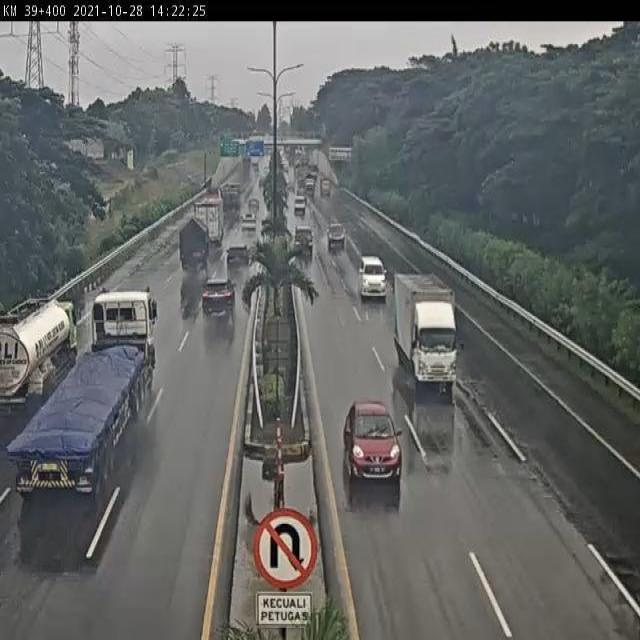ARABA: (339, 400, 405, 488), (197, 280, 237, 328), (355, 253, 390, 304), (325, 219, 351, 252), (224, 245, 252, 275), (238, 211, 261, 240), (297, 231, 318, 261), (289, 191, 311, 216), (247, 198, 260, 218)
KAMYONET: (396, 271, 464, 396), (0, 297, 84, 375), (176, 217, 212, 276)
TIR: (76, 284, 166, 484), (195, 182, 230, 242)
